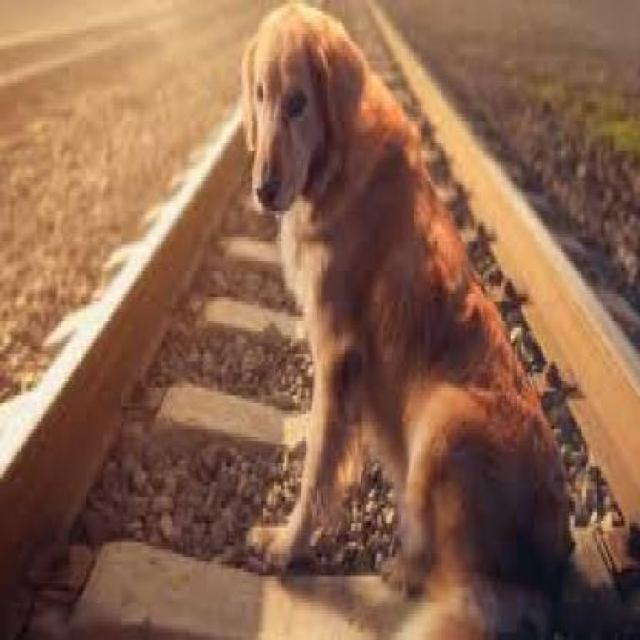danger: (226, 9, 592, 632)
rail: (21, 37, 640, 636)
